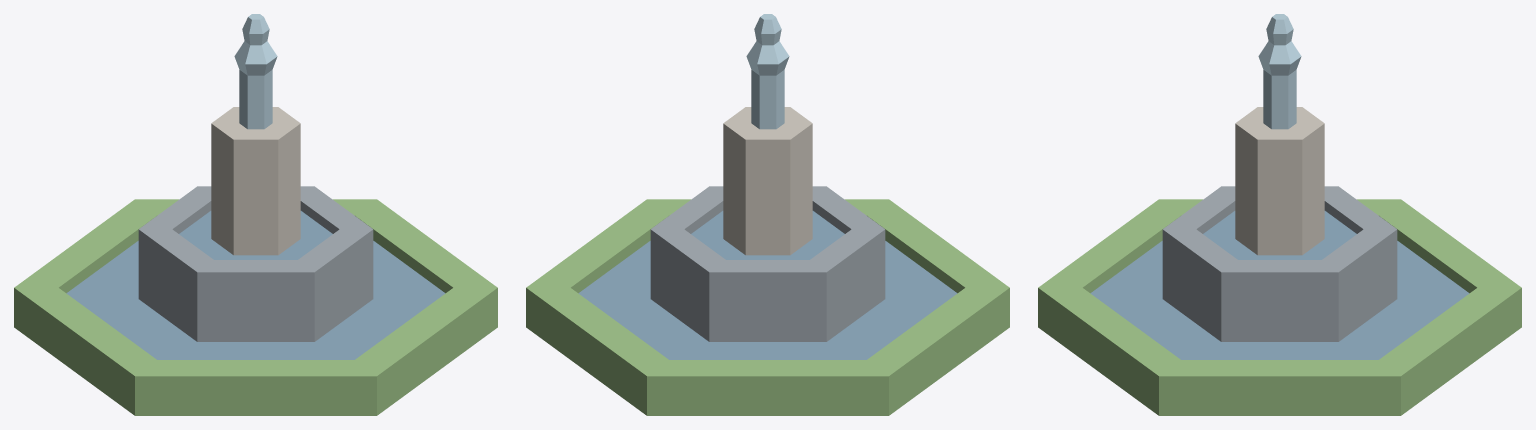
File: Building_Objects_Fountain.fbx
3 renders of one model, left to right at view 1: azimuth 30°, elevation 25°; view 2: azimuth 150°, elevation 25°; view 3: azimuth 270°, elevation 25°, orthographic.
Parts seen in each view (by area): view 1: Building_Objects_Fountain; view 2: Building_Objects_Fountain; view 3: Building_Objects_Fountain.
Part boxes in pixels (x1,y1,x2,y2): Building_Objects_Fountain: (14, 14, 497, 415); Building_Objects_Fountain: (526, 14, 1009, 415); Building_Objects_Fountain: (1038, 14, 1521, 415).
Bounding box in the file's own units: 333 × 273 × 385.
